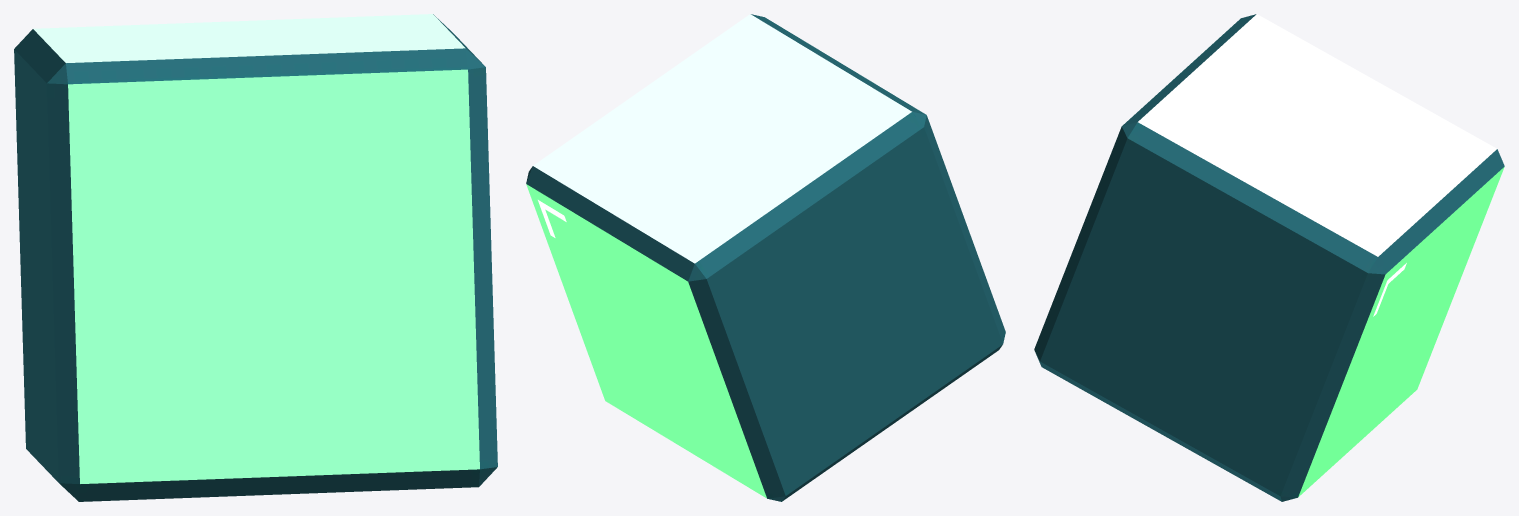
3 renders of one model, left to right at view 1: azimuth 30°, elevation 25°; view 2: azimuth 150°, elevation 25°; view 3: azimuth 270°, elevation 25°, orthographic. The views are drawn at different scales.
Visible parts, largest first — view 1: glow_Saucer_Green, Teal_Outline_and_Shade, glow_Light_Mint; view 2: Teal_Outline_and_Shade, glow_Light_Mint, glow_Saucer_Green; view 3: Teal_Outline_and_Shade, glow_Light_Mint, glow_Saucer_Green.
Boxes of the visible parts, x1,y1,x2,y2 form: glow_Saucer_Green: (68, 69, 479, 483); Teal_Outline_and_Shade: (14, 14, 497, 501); glow_Light_Mint: (33, 14, 465, 62); Teal_Outline_and_Shade: (526, 14, 1005, 501); glow_Light_Mint: (533, 14, 911, 263); glow_Saucer_Green: (526, 184, 766, 498); Teal_Outline_and_Shade: (1034, 14, 1504, 501); glow_Light_Mint: (1138, 14, 1496, 256); glow_Saucer_Green: (1298, 167, 1504, 497).
Size of the model in its own units: 0.8819 by 0.7883 by 0.957.
4 materials, 1 textured.
